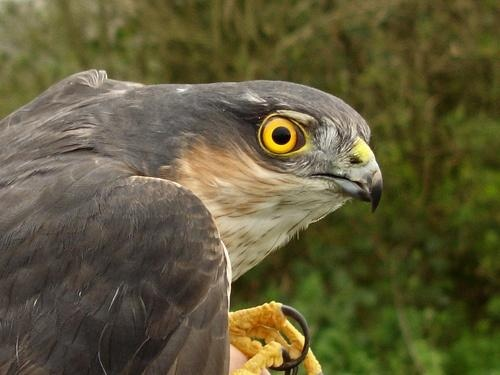bird: (2, 69, 383, 375)
